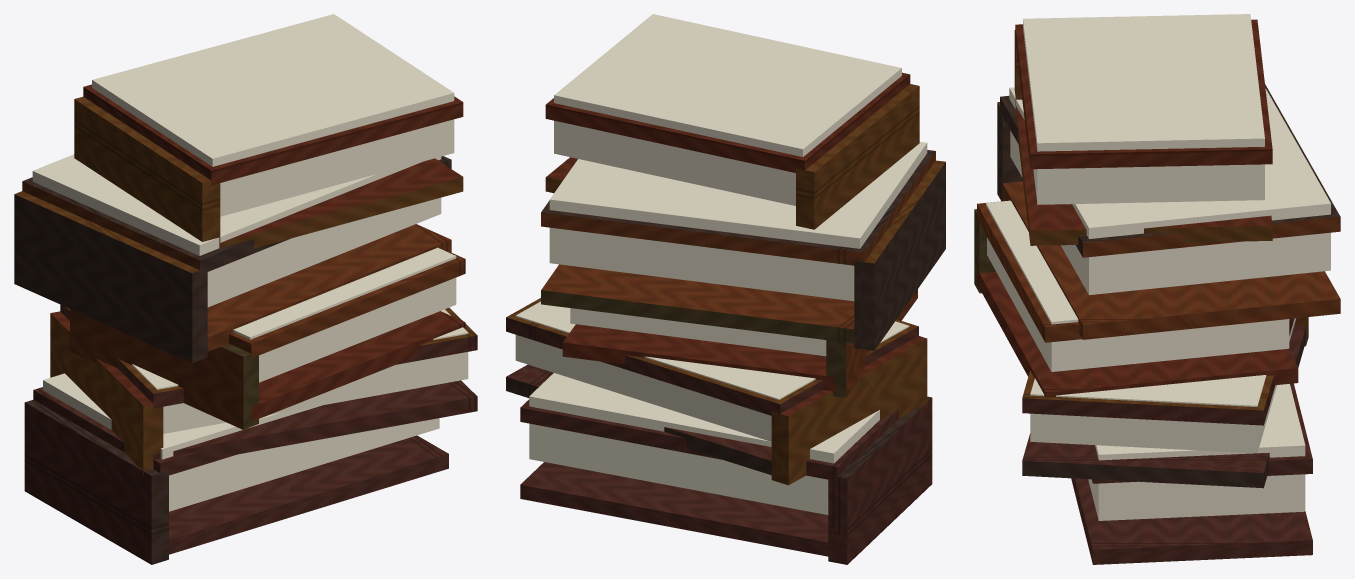
File: stack.glb
3 views of the same model, side by side, from view 1: azimuth 30°, elevation 25°; view 2: azimuth 150°, elevation 25°; view 3: azimuth 270°, elevation 25° (orthographic). The views are drawn at different scales.
Visible parts, largest first — view 1: stack; view 2: stack; view 3: stack.
Part boxes in pixels (x1,y1,x2,y2): stack: (14, 14, 477, 564); stack: (506, 14, 945, 564); stack: (974, 14, 1340, 564).
Size of the model in its own units: 0.3213 by 0.3325 by 0.2653.
Materials: 2 (1 with a texture image).
